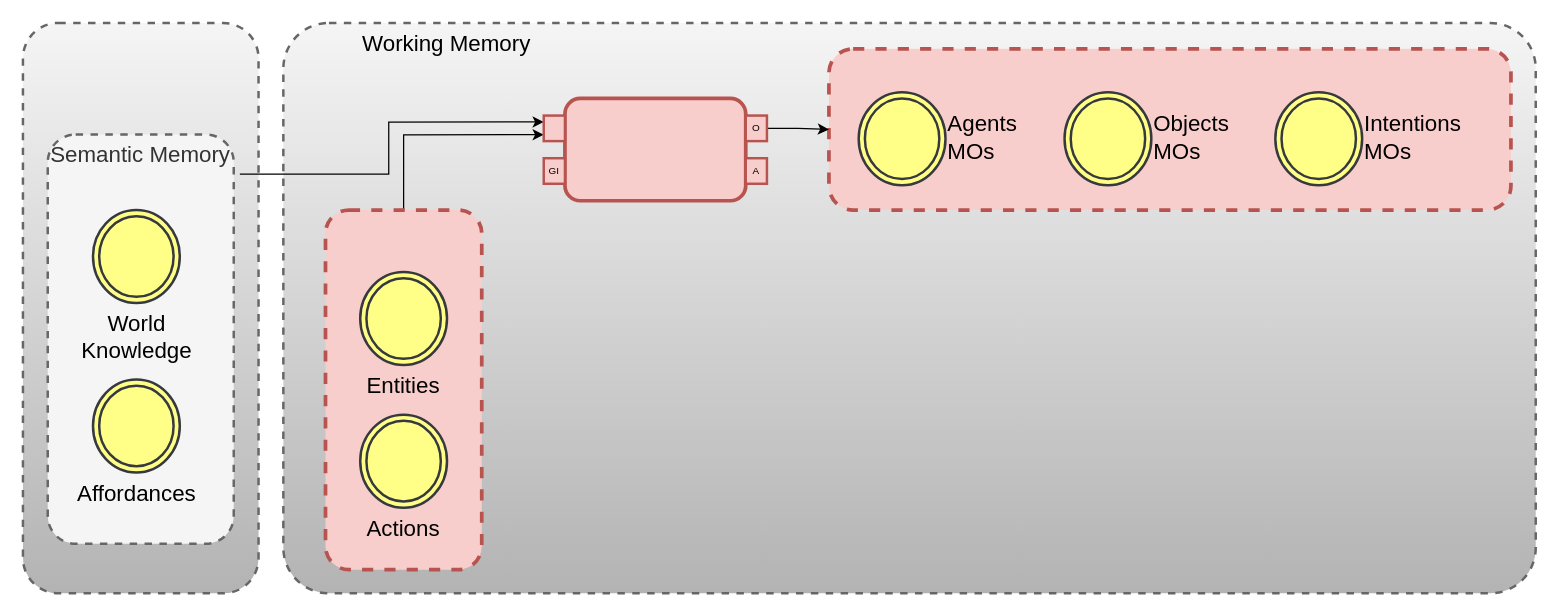
Some shapes in this 1557 by 615 pixel diagram are drawn without their labels. The shapes that lost their labels are listed below. From the top down, each one's box as (x1, y1, x2, y2) in pixels, then its label:
(542, 114, 566, 142): LI
(826, 46, 1512, 211): ID Memory
(562, 96, 747, 202): Intentionality Detector (ID) Codelet
(21, 21, 259, 594): Symbolic Long-Term Memories
(323, 208, 483, 571): Percept
